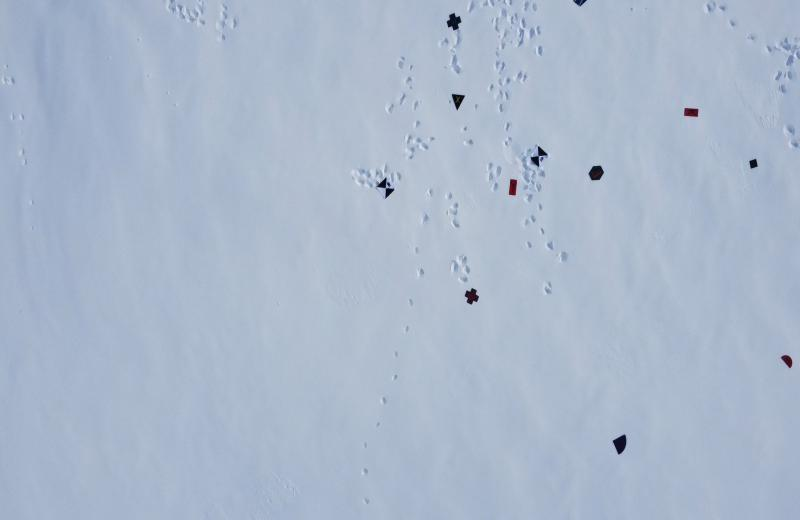Cross: (444, 11, 464, 32), (465, 288, 480, 307)
Hexagon: (588, 164, 604, 184)
Pentagon: (572, 0, 588, 7)
Quarter Circle: (613, 433, 631, 455)
Rectangle: (683, 106, 699, 122), (507, 178, 520, 197)
Semi Circle: (781, 353, 794, 371)
Square: (748, 157, 758, 170)
Triangle: (450, 91, 468, 110)
